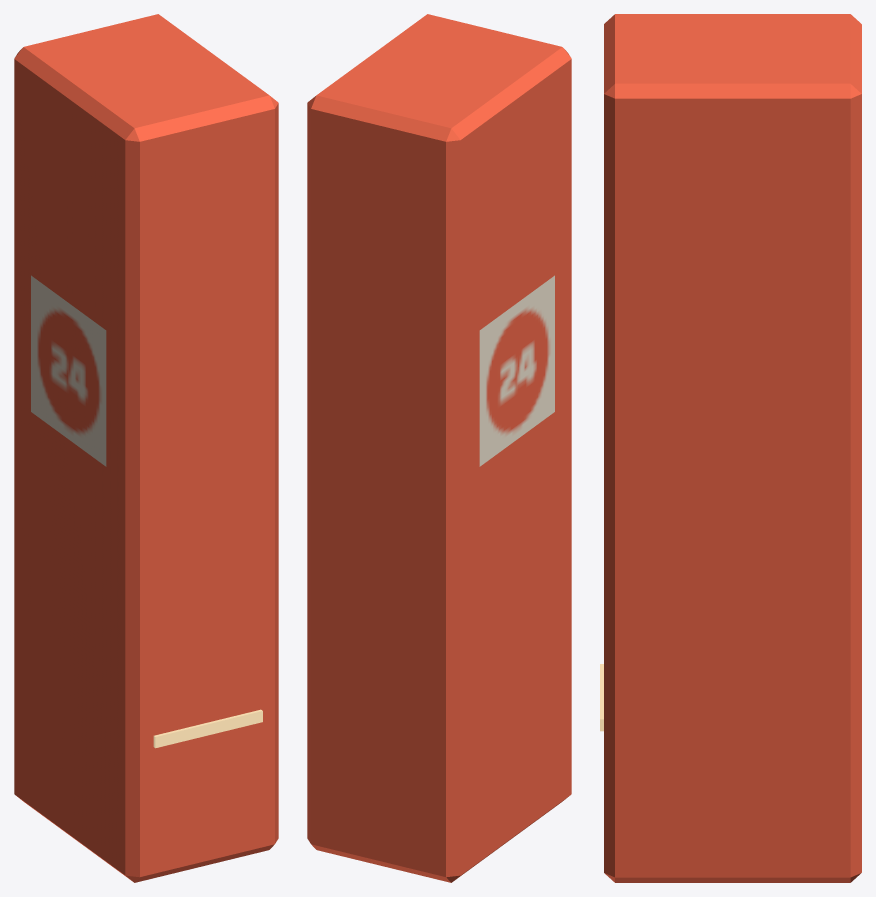
The model's file is SC_Bld_Store_Fascia_End_L.gltf.
The picture shows the model from 3 angles, left to right: view 1: azimuth 30°, elevation 25°; view 2: azimuth 150°, elevation 25°; view 3: azimuth 270°, elevation 25°; orthographic projection. The views are drawn at different scales.
Parts seen in each view (by area): view 1: SC_Bld_Store_Fascia_End_L; view 2: SC_Bld_Store_Fascia_End_L; view 3: SC_Bld_Store_Fascia_End_L.
Part boxes in pixels (x1=…): SC_Bld_Store_Fascia_End_L: x1=14, y1=14, x2=278, y2=882; SC_Bld_Store_Fascia_End_L: x1=307, y1=14, x2=571, y2=882; SC_Bld_Store_Fascia_End_L: x1=600, y1=14, x2=861, y2=882.
Size of the model in its own units: 0.2015 by 0.94 by 0.279.
Materials: 3 (3 with a texture image).
